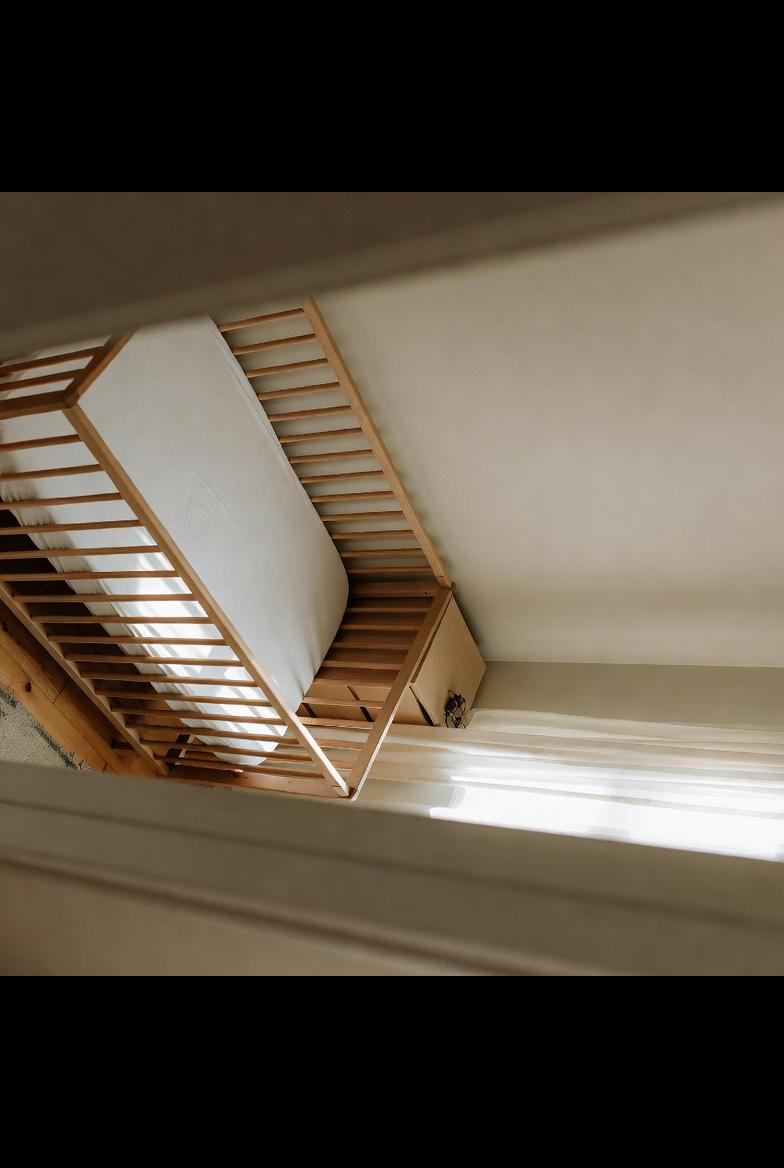crib: (0, 265, 457, 815)
